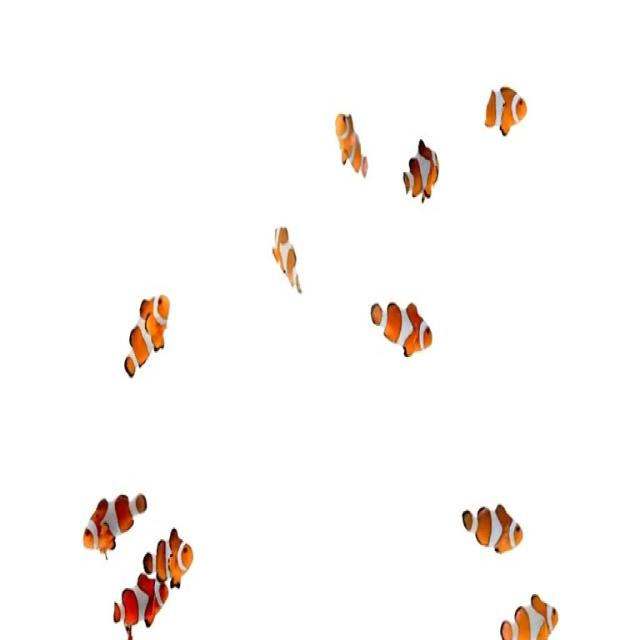fish: (366, 280, 438, 375), (458, 482, 526, 565), (77, 488, 146, 566), (114, 290, 175, 375), (139, 526, 209, 592), (496, 585, 570, 640), (104, 578, 175, 635), (268, 207, 308, 300), (394, 139, 442, 216), (482, 73, 528, 145), (331, 109, 373, 183)
